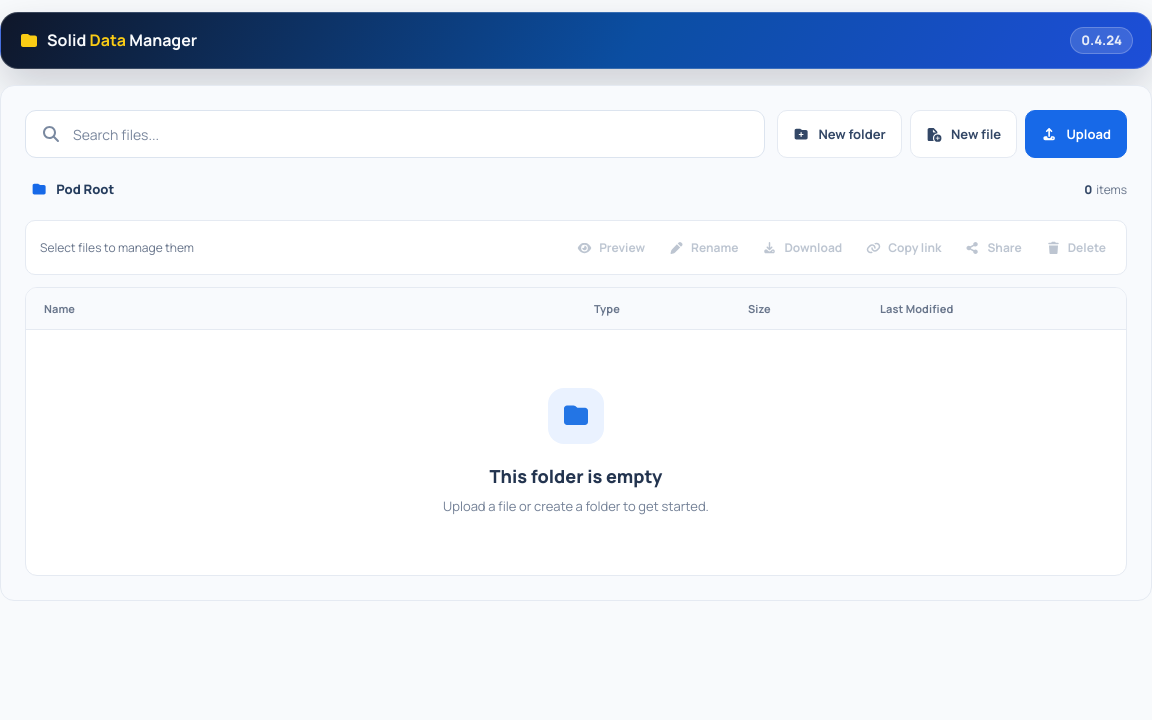
Test: empty folders and empty search results explain the next step
The width and height of the screenshot is (1152, 720).
Expected: the heading "This folder is empty" is shown, [490,464,662,488]
Type "missing" into the search field at coordinates (411, 134), box [73,111,749,157]
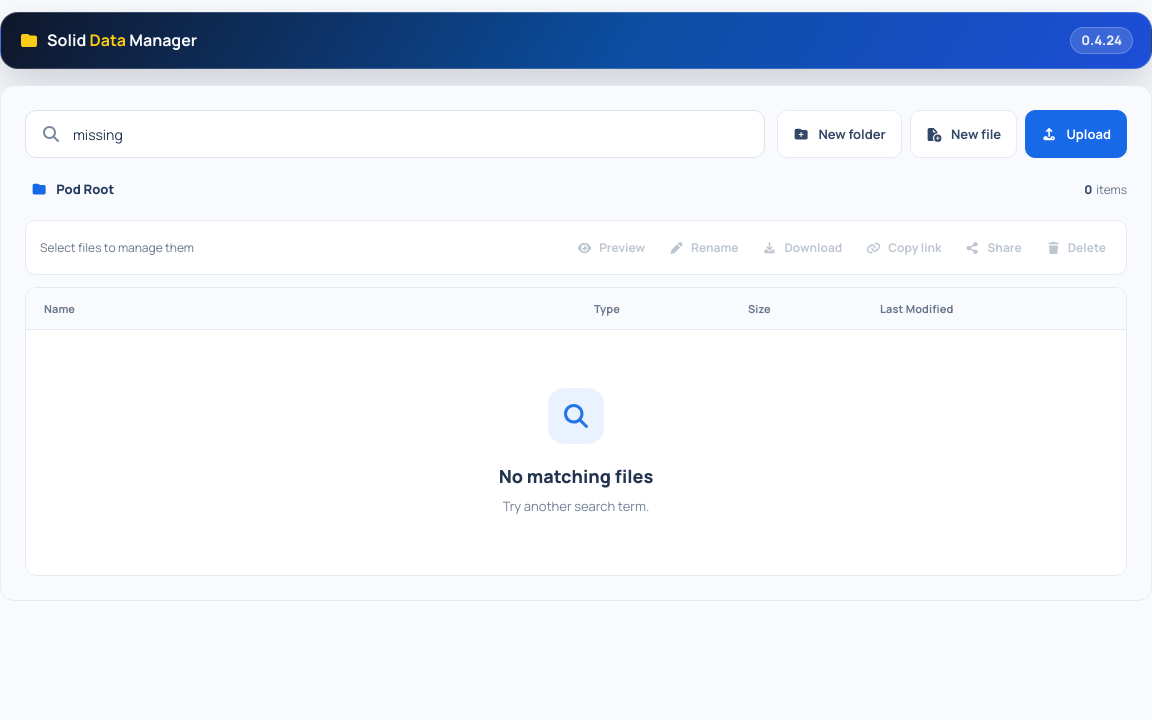
Expected: the heading "No matching files" is shown, [499,464,653,488]
Expected: the text "Try another search term." is shown, [503,496,649,517]
